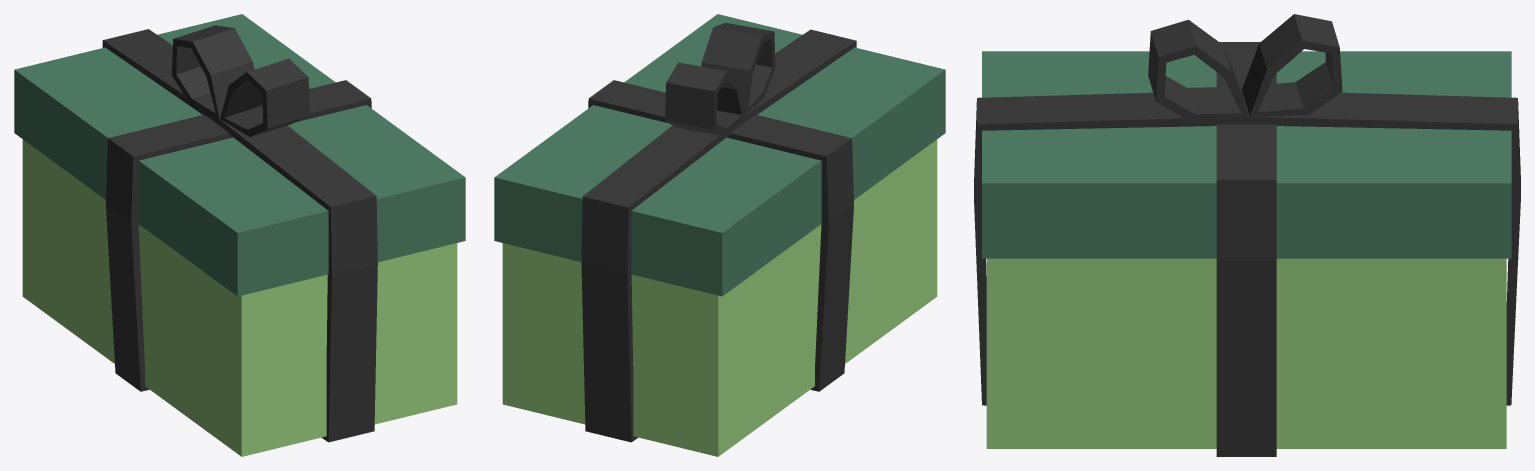
File: Giftbox_02.glb
3 renders of one model, left to right at view 1: azimuth 30°, elevation 25°; view 2: azimuth 150°, elevation 25°; view 3: azimuth 270°, elevation 25°, orthographic. The views are drawn at different scales.
Visible parts, largest first — view 1: Giftbox_2_mesh; view 2: Giftbox_2_mesh; view 3: Giftbox_2_mesh.
Part boxes in pixels (x1,y1,x2,y2): Giftbox_2_mesh: [14, 14, 465, 456]; Giftbox_2_mesh: [494, 14, 945, 456]; Giftbox_2_mesh: [974, 14, 1520, 456].
Size of the model in its own units: 0.3373 by 0.414 by 0.5555.
1 material, 1 textured.
